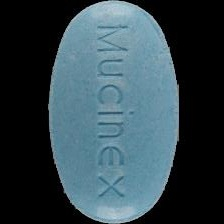54868-4750: (0, 0, 224, 224)
